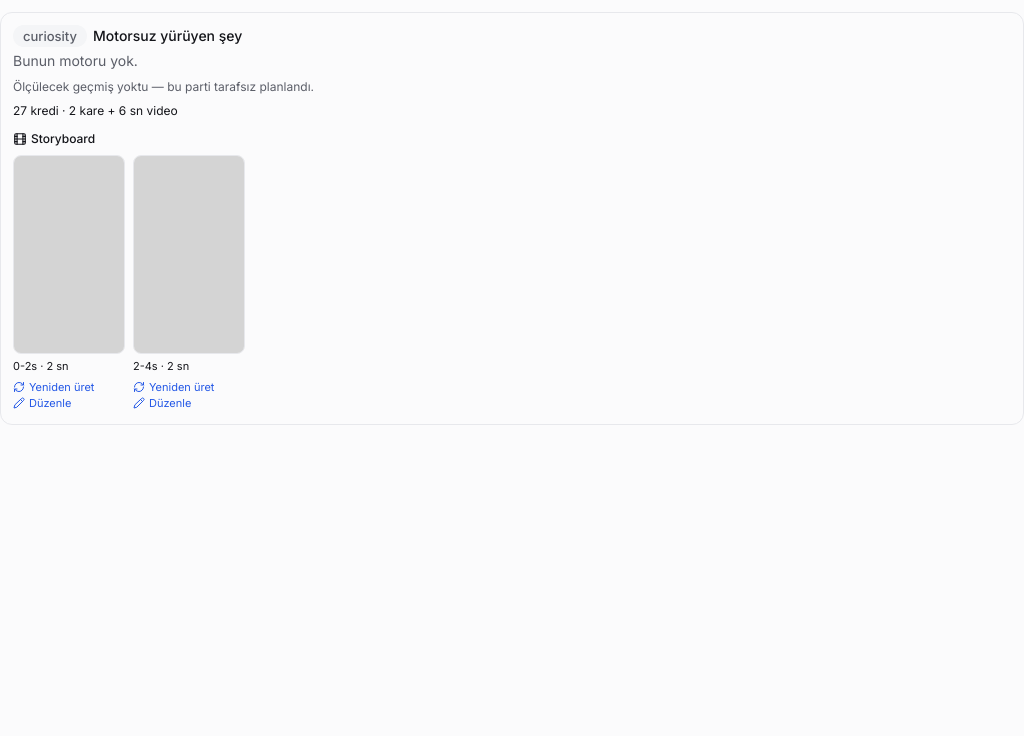
Test: BatchDetail — the storyboard a reviewer looks at › directing a beat by hand — the frame text and the motion text › opens the editor from a tile with both texts prefilled — the raw frame prompt and the clip prompt
What coordinates should you click on to do the following:
click the button with aria-label "Düzenle 2-4s"
I would click on:
 (162, 403)
Its box is [133,395,191,412].
(page scrolled)
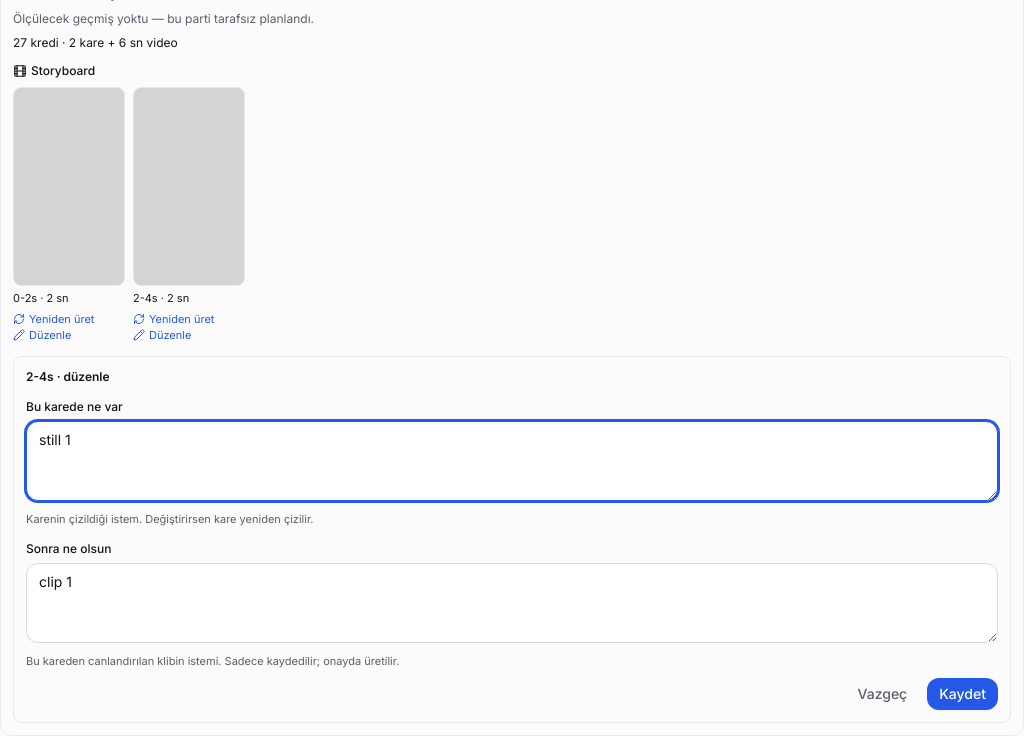
Expected: the heading "2-4s · düzenle" is shown, [26,369,110,384]
Expected: the text box labelled "Bu karede ne var" holds "still 1", [26,421,998,501]
Expected: the text box labelled "Sonra ne olsun" holds "clip 1", [26,563,998,643]
